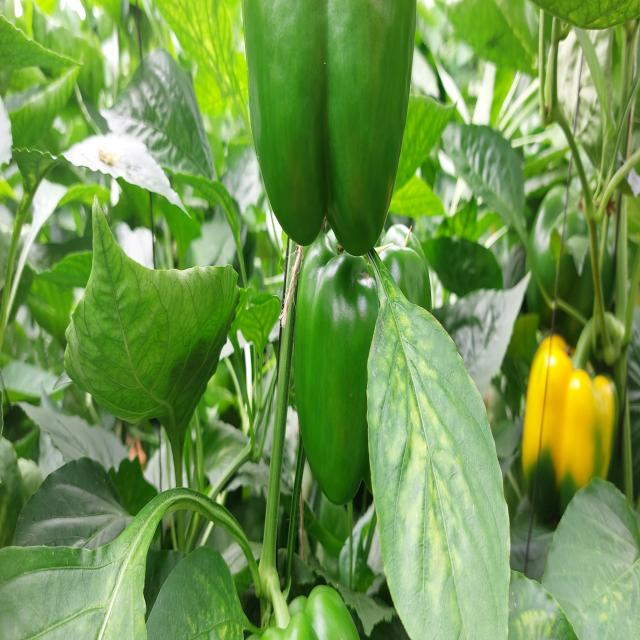Green--Not-ready-to-harvest: (240, 2, 432, 264), (298, 262, 435, 520), (525, 336, 615, 532)
